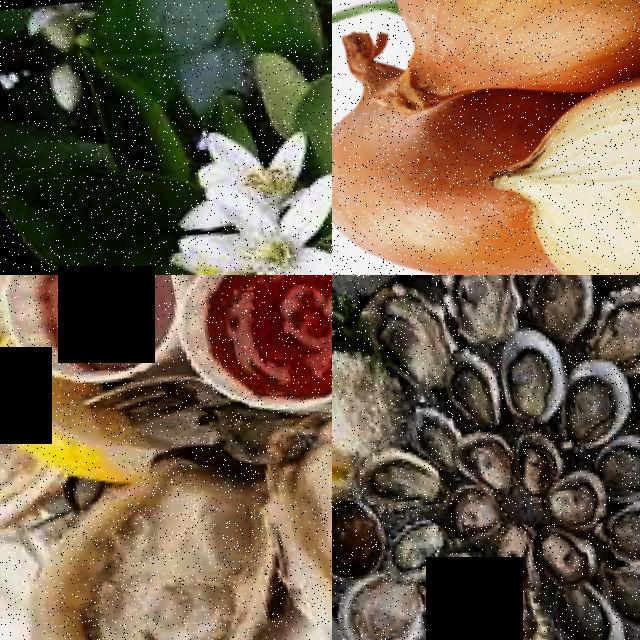onion: (332, 84, 545, 275), (502, 41, 640, 275), (369, 0, 640, 100)
oysters: (0, 466, 290, 640), (243, 385, 332, 640), (546, 349, 633, 458), (364, 278, 448, 381), (490, 326, 569, 422), (432, 275, 527, 350), (332, 566, 425, 640), (353, 439, 440, 517), (439, 340, 501, 432), (421, 548, 485, 627), (517, 275, 595, 338), (501, 421, 563, 496), (545, 580, 622, 640), (589, 275, 640, 364), (374, 515, 443, 579), (480, 577, 549, 640), (480, 516, 539, 585), (435, 481, 500, 542), (528, 522, 593, 582), (591, 490, 640, 569), (543, 465, 606, 526), (446, 426, 509, 487), (539, 468, 604, 527), (590, 431, 640, 499), (598, 562, 640, 631)
